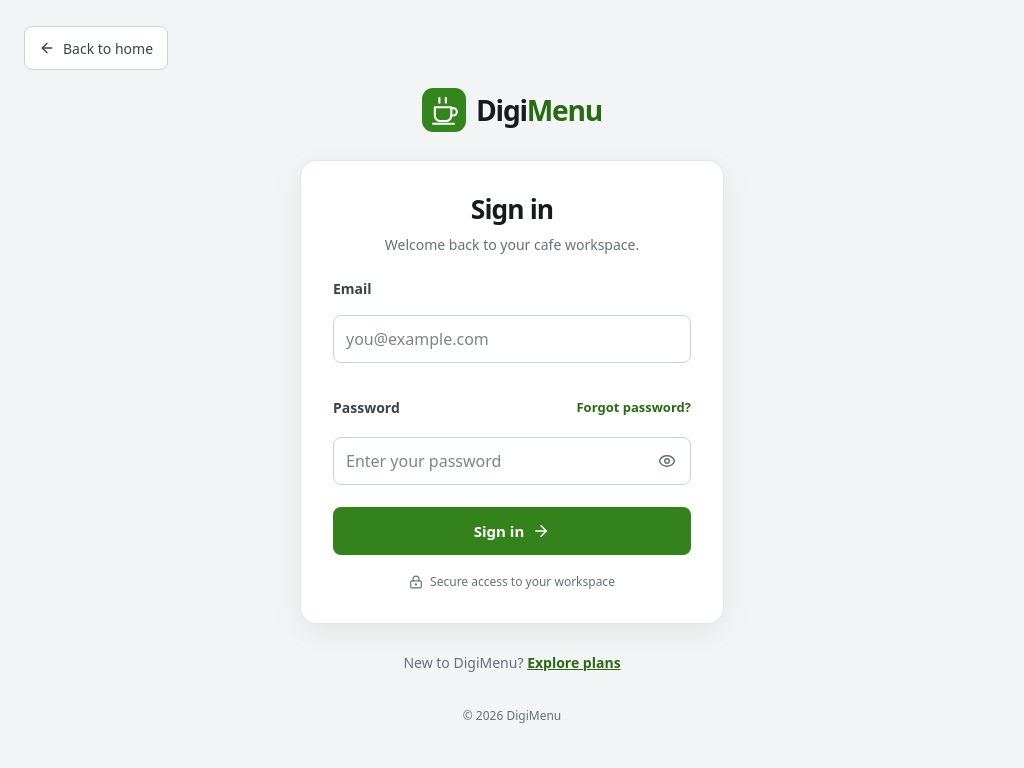
Scenario: routing smoke test › logs in valid admin and lands on /admin dashboard
Expected: the heading "Sign in" is shown, [471,191,553,227]
Type "admin@abyssinia-roast.com" into the field labelled "Email" at (512, 339), box [333,315,691,363]
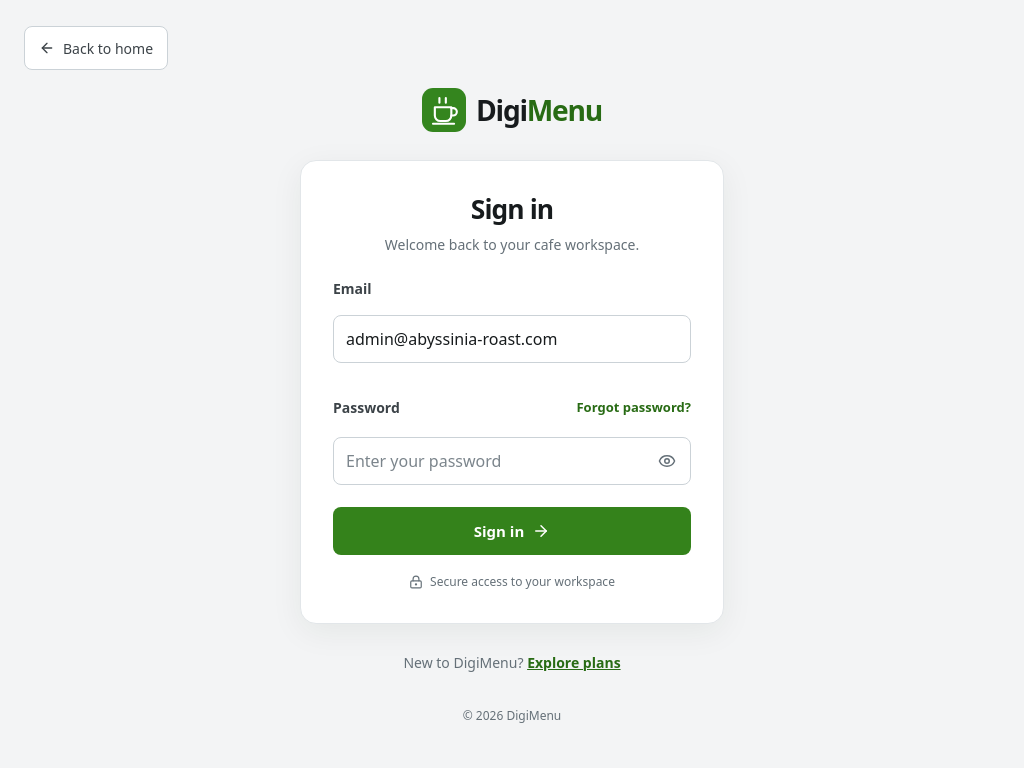
Type "admin-pass" into the password field labelled "Password" at (512, 461), box [333,437,691,485]
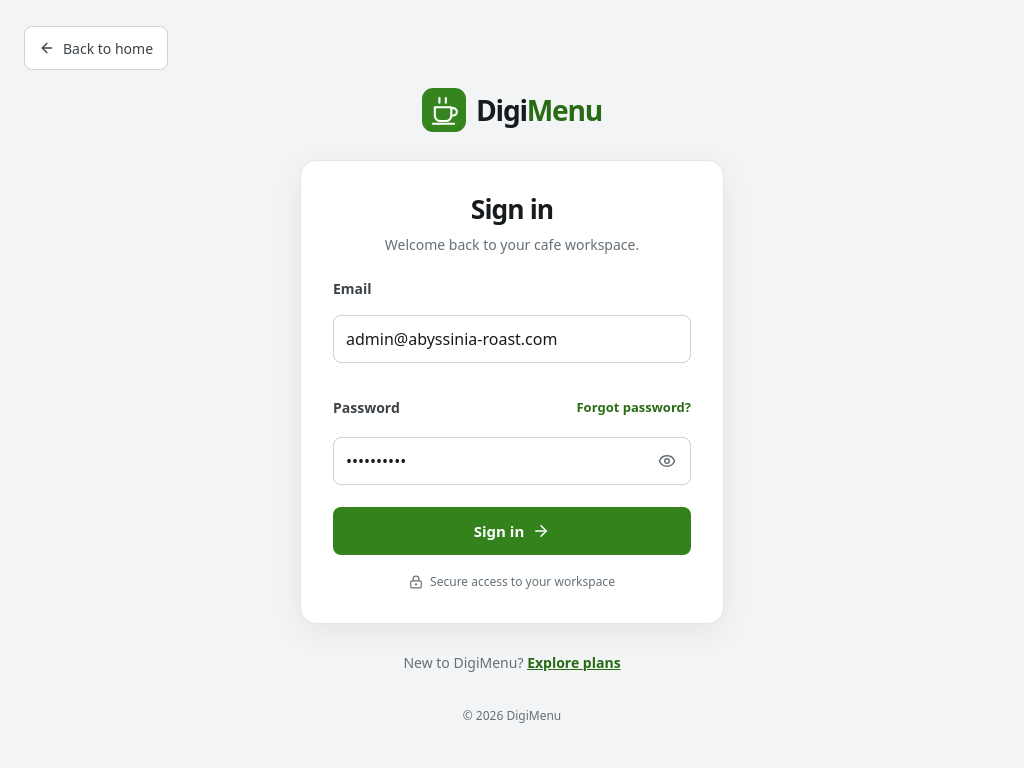
Click the button "Sign in" at (512, 531), box [333,507,691,555]
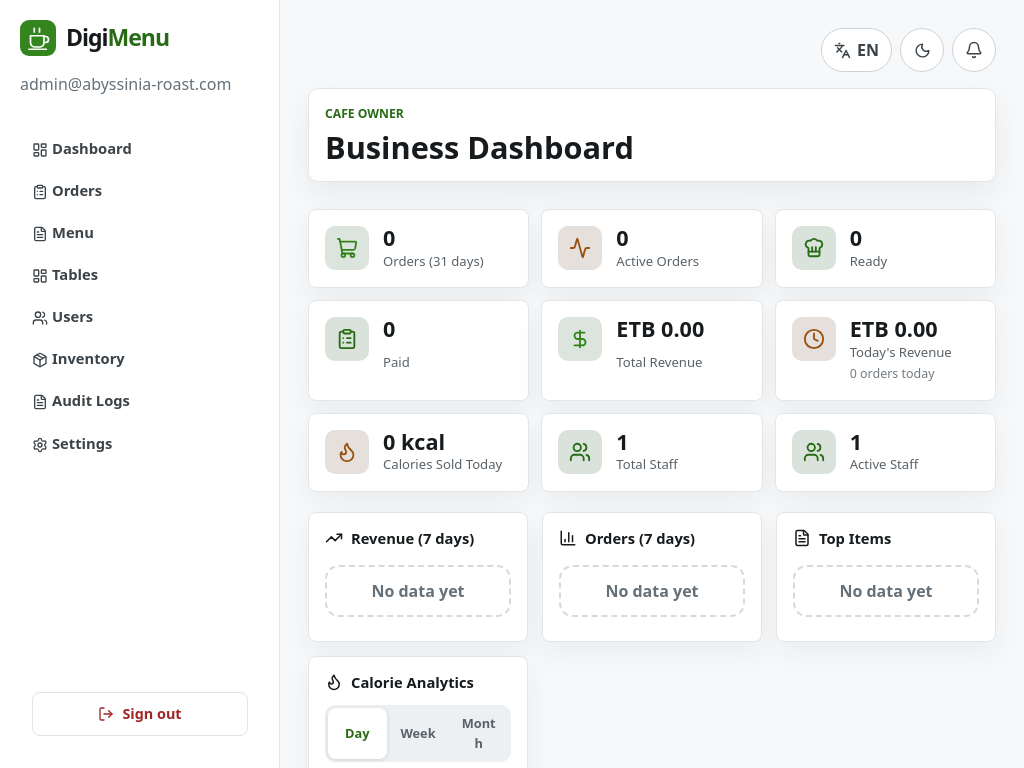
Result: the link "Dashboard" is shown at [32,138,132,158]
Result: the heading "Sign in" is gone
